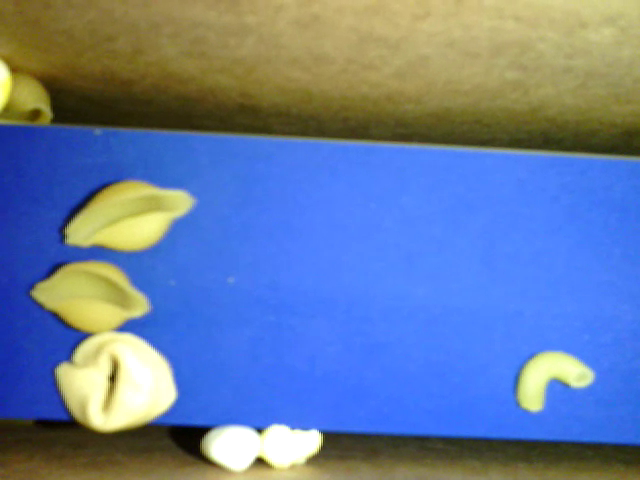elbow: (513, 347, 597, 414)
shell: (59, 179, 197, 254), (32, 258, 151, 335), (2, 70, 55, 127)
tortellini: (52, 333, 178, 433)
